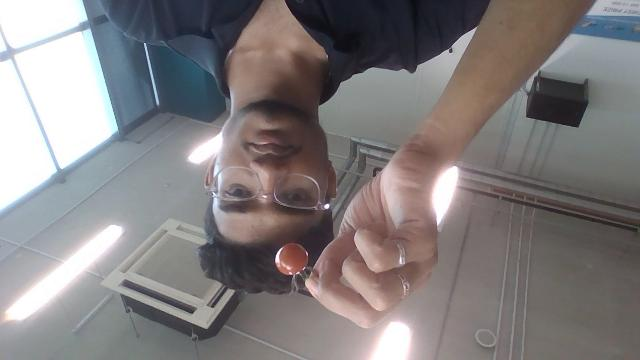Fully Grown: (275, 242, 309, 276)
